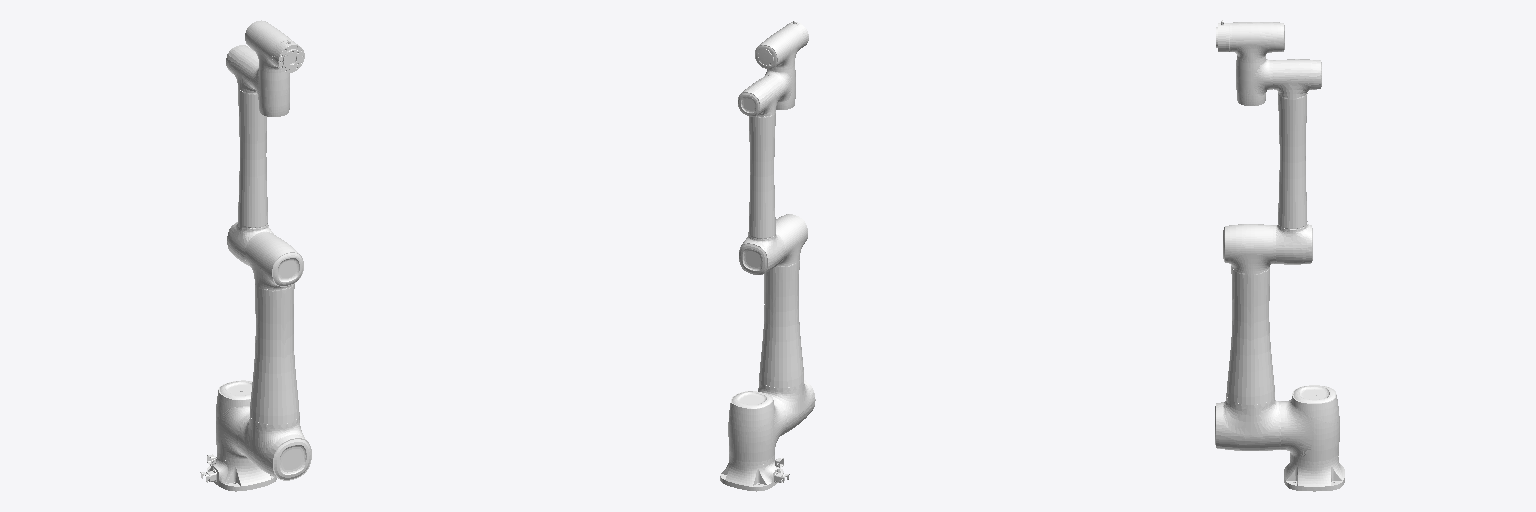
The robot description file, URDF, robot "cr10_robot":
<?xml version="1.0" encoding="utf-8"?>
<!-- This URDF was automatically created by SolidWorks to URDF Exporter! Originally created by [author] ([email redacted]) 
     Commit Version: 1.6.0-1-g15f4949  Build Version: 1.6.7594.29634
     For more information, please see http://wiki.ros.org/sw_urdf_exporter -->
<robot
  name="cr10_robot">
  <link name="dummy_link"/>
  <link
    name="base_link">
    <inertial>
      <origin
        xyz="-0.0017435 -4.7141E-06 0.032774"
        rpy="0 0 0" />
      <mass
        value="1.8265" />
      <inertia
        ixx="0.0041731"
        ixy="5.9354E-07"
        ixz="2.52E-05"
        iyy="0.0043128"
        iyz="-5.4503E-07"
        izz="0.0067702" />
    </inertial>
    <visual>
      <origin
        xyz="0 0 0"
        rpy="0 0 0" />
      <geometry>
        <mesh
          filename="package://dobot_description/meshes/cr10/base_link.STL" />
      </geometry>
      <material
        name="">
        <color
          rgba="1 1 1 1" />
      </material>
    </visual>
    <collision>
      <origin
        xyz="0 0 0"
        rpy="0 0 0" />
      <geometry>
        <mesh
          filename="package://dobot_description/meshes/cr10/base_link.STL" />
      </geometry>
    </collision>
  </link>
     <joint name="dummy_joint" type="fixed">
      <parent link="dummy_link" />
      <child  link="base_link" />
    </joint>
  <link
    name="Link1">
    <inertial>
      <origin
        xyz="-1.6635E-06 -0.010819 0.0028389"
        rpy="0 0 0" />
      <mass
        value="4.1649" />
      <inertia
        ixx="0.020714"
        ixy="-1.9343E-07"
        ixz="1.6036E-07"
        iyy="0.018824"
        iyz="-9.6731E-05"
        izz="0.014575" />
    </inertial>
    <visual>
      <origin
        xyz="0 0 0"
        rpy="0 0 0" />
      <geometry>
        <mesh
          filename="package://dobot_description/meshes/cr10/Link1.STL" />
      </geometry>
      <material
        name="">
        <color
          rgba="1 1 1 1" />
      </material>
    </visual>
    <collision>
      <origin
        xyz="0 0 0"
        rpy="0 0 0" />
      <geometry>
        <mesh
          filename="package://dobot_description/meshes/cr10/Link1.STL" />
      </geometry>
    </collision>
  </link>
  <joint
    name="joint1"
    type="revolute">
    <origin
      xyz="0 0 0.1765"
      rpy="0 0 0" />
    <parent
      link="base_link" />
    <child
      link="Link1" />
    <axis
      xyz="0 0 1" />
    <limit
      lower="-3.14"
      upper="3.14"
      effort="0"
      velocity="0" />
  </joint>
  <link
    name="Link2">
    <inertial>
      <origin
        xyz="-0.24631 3.5816E-07 0.19515"
        rpy="0 0 0" />
      <mass
        value="11.314" />
      <inertia
        ixx="0.033616"
        ixy="-8.2998E-07"
        ixz="-0.0033352"
        iyy="0.30683"
        iyz="-6.6457E-08"
        izz="0.29972" />
    </inertial>
    <visual>
      <origin
        xyz="0 0 0"
        rpy="0 0 0" />
      <geometry>
        <mesh
          filename="package://dobot_description/meshes/cr10/Link2.STL"  />
      </geometry>
      <material
        name="">
        <color
          rgba="1 1 1 1" />
      </material>
    </visual>
    <collision>
      <origin
        xyz="0 0 0"
        rpy="0 0 0" />
      <geometry>
        <mesh
          filename="package://dobot_description/meshes/cr10/Link2.STL" />
      </geometry>
    </collision>
  </link>
  <joint
    name="joint2"
    type="revolute">
    <origin
      xyz="0 0 0"
      rpy="1.5708 1.5708 0" />
    <parent
      link="Link1" />
    <child
      link="Link2" />
    <axis
      xyz="0 0 1" />
    <limit
      lower="-3.14"
      upper="3.14"
      effort="0"
      velocity="0" />
  </joint>
  <link
    name="Link3">
    <inertial>
      <origin
        xyz="-0.270855859955203 2.5144690851208E-07 0.0622960395387155"
        rpy="0 0 0" />
      <mass
        value="4.89191189064363" />
      <inertia
        ixx="0.00715720724136357"
        ixy="-5.62017408817872E-07"
        ixz="-0.00257748068989916"
        iyy="0.239673426443838"
        iyz="9.26228295895878E-08"
        izz="0.238369168055991" />
    </inertial>
    <visual>
      <origin
        xyz="0 0 0"
        rpy="0 0 0" />
      <geometry>
        <mesh
          filename="package://dobot_description/meshes/cr10/Link3.STL"  />
      </geometry>
      <material
        name="">
        <color
          rgba="1 1 1 1" />
      </material>
    </visual>
    <collision>
      <origin
        xyz="0 0 0"
        rpy="0 0 0" />
      <geometry>
        <mesh
          filename="package://dobot_description/meshes/cr10/Link3.STL" />
      </geometry>
    </collision>
  </link>
  <joint
    name="joint3"
    type="revolute">
    <origin
      xyz="-0.607 0 0"
      rpy="0 0 0" />
    <parent
      link="Link2" />
    <child
      link="Link3" />
    <axis
      xyz="0 0 1" />
    <limit
      lower="-2.861"
      upper="2.861"
      effort="0"
      velocity="0" />
  </joint>
  <link
    name="Link4">
    <inertial>
      <origin
        xyz="-2.53137491438456E-07 0.00798724498566683 -0.00589074229668524"
        rpy="0 0 0" />
      <mass
        value="1.16884294495796" />
      <inertia
        ixx="0.00292614933092813"
        ixy="8.20440076221281E-09"
        ixz="-8.19990423351321E-09"
        iyy="0.00150052997722543"
        iyz="-5.4492521866877E-05"
        izz="0.00273274943535585" />
    </inertial>
    <visual>
      <origin
        xyz="0 0 0"
        rpy="0 0 0" />
      <geometry>
        <mesh
          filename="package://dobot_description/meshes/cr10/Link4.STL"/>
      </geometry>
      <material
        name="">
        <color
          rgba="1 1 1 1" />
      </material>
    </visual>
    <collision>
      <origin
        xyz="0 0 0"
        rpy="0 0 0" />
      <geometry>
        <mesh
          filename="package://dobot_description/meshes/cr10/Link4.STL"  />
      </geometry>
    </collision>
  </link>
  <joint
    name="joint4"
    type="revolute">
    <origin
      xyz="-0.568 0 0.191"
      rpy="0 0 -1.5708" />
    <parent
      link="Link3" />
    <child
      link="Link4" />
    <axis
      xyz="0 0 1" />
    <limit
      lower="-3.14"
      upper="3.14"
      effort="0"
      velocity="0" />
  </joint>
  <link
    name="Link5">
    <inertial>
      <origin
        xyz="5.50699455951951E-07 -0.0145467578029201 -0.00454887087411437"
        rpy="0 0 0" />
      <mass
        value="1.22303084244711" />
      <inertia
        ixx="0.00337905462069531"
        ixy="3.57819902464362E-08"
        ixz="-7.51828060542842E-09"
        iyy="0.00149255573951137"
        iyz="8.41917918947542E-05"
        izz="0.00323300312341709" />
    </inertial>
    <visual>
      <origin
        xyz="0 0 0"
        rpy="0 0 0" />
      <geometry>
        <mesh
          filename="package://dobot_description/meshes/cr10/Link5.STL" />
      </geometry>
      <material
        name="">
        <color
          rgba="1 1 1 1" />
      </material>
    </visual>
    <collision>
      <origin
        xyz="0 0 0"
        rpy="0 0 0" />
      <geometry>
        <mesh
          filename="package://dobot_description/meshes/cr10/Link5.STL" />
      </geometry>
    </collision>
  </link>
  <joint
    name="joint5"
    type="revolute">
    <origin
      xyz="0 -0.125 0"
      rpy="1.5708 0 0" />
    <parent
      link="Link4" />
    <child
      link="Link5" />
    <axis
      xyz="0 0 1" />
    <limit
      lower="-3.14"
      upper="3.14"
      effort="0"
      velocity="0" />
  </joint>
  <link
    name="Link6">
    <inertial>
      <origin
        xyz="1.42987471244488E-10 2.29640694859867E-05 -0.0205297780389956"
        rpy="0 0 0" />
      <mass
        value="0.205439548775225" />
      <inertia
        ixx="0.000110115425573789"
        ixy="-8.21487875808426E-14"
        ixz="4.28615843947113E-14"
        iyy="0.000110662465957898"
        iyz="3.68879932665237E-08"
        izz="0.00020518429573024" />
    </inertial>
    <visual>
      <origin
        xyz="0 0 0"
        rpy="0 0 0" />
      <geometry>
        <mesh
          filename="package://dobot_description/meshes/cr10/Link6.STL" />
      </geometry>
      <material
        name="">
        <color
          rgba="1 1 1 1" />
      </material>
    </visual>
    <collision>
      <origin
        xyz="0 0 0"
        rpy="0 0 0" />
      <geometry>
        <mesh
          filename="package://dobot_description/meshes/cr10/Link6.STL" />
      </geometry>
    </collision>
  </link>
  <joint
    name="joint6"
    type="revolute">
    <origin
      xyz="0 0.1084 0"
      rpy="-1.5708 0 0" />
    <parent
      link="Link5" />
    <child
      link="Link6" />
    <axis
      xyz="0 0 1" />
    <limit
      lower="-6.28"
      upper="6.28"
      effort="0"
      velocity="0" />
  </joint>
</robot>

--- Render facts (derived) ---
Views: 3 orthographic renders of the robot side by side, from view 1: azimuth 30°, elevation 25°; view 2: azimuth 150°, elevation 25°; view 3: azimuth 270°, elevation 25°.
Robot: cr10_robot — 8 links, 7 joints (6 revolute, 1 fixed); root link dummy_link; default pose: all joints at 0.
Visible links, largest first — view 1: Link2, Link3, Link1, base_link, Link4, Link5, Link6; view 2: Link2, Link3, Link1, base_link, Link5, Link4; view 3: Link2, Link3, Link1, Link5, base_link, Link4.
Boxes of the visible links, bbox=[...] form: Link2: bbox=[237, 232, 311, 480]; Link3: bbox=[226, 45, 273, 265]; Link1: bbox=[216, 380, 252, 462]; base_link: bbox=[200, 454, 276, 491]; Link4: bbox=[250, 65, 289, 116]; Link5: bbox=[245, 20, 293, 69]; Link6: bbox=[272, 40, 304, 72]; Link2: bbox=[758, 214, 815, 434]; Link3: bbox=[738, 76, 785, 274]; Link1: bbox=[728, 391, 786, 465]; base_link: bbox=[720, 457, 789, 491]; Link5: bbox=[755, 26, 803, 68]; Link4: bbox=[765, 64, 795, 109]; Link2: bbox=[1215, 224, 1280, 450]; Link3: bbox=[1273, 59, 1321, 264]; Link1: bbox=[1281, 385, 1339, 464]; Link5: bbox=[1230, 22, 1284, 60]; base_link: bbox=[1284, 456, 1344, 491]; Link4: bbox=[1236, 56, 1272, 105].
Size in the robot's own frame: 0.2318 by 0.395 by 1.53 metres.
Meshes: 7 distinct files referenced, 7 mesh visuals loaded (7 binary STL).